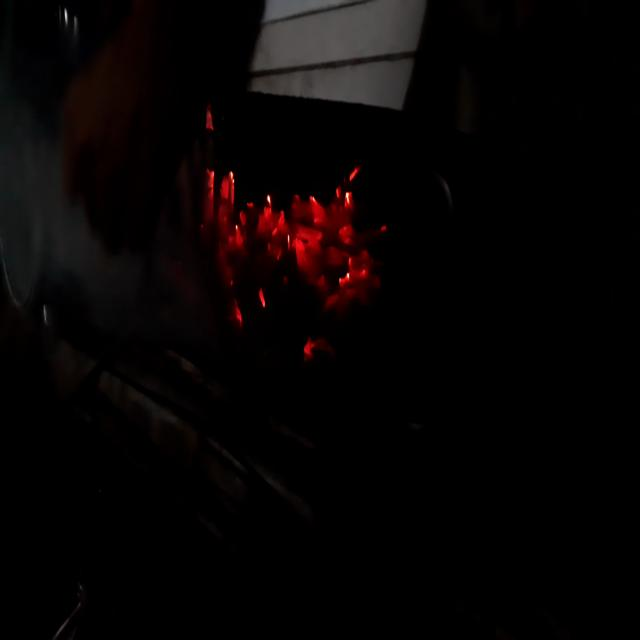Fire: (213, 156, 379, 341)
